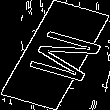M_E: (10, 24, 100, 86)
